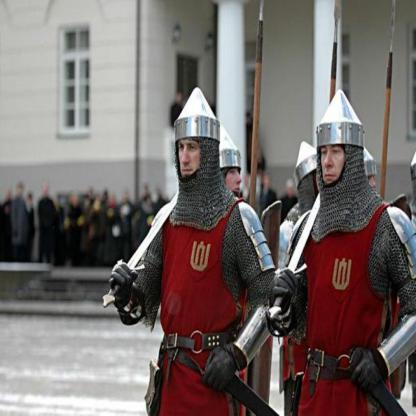face: (321, 132, 349, 188), (180, 127, 203, 187), (221, 154, 244, 205)
